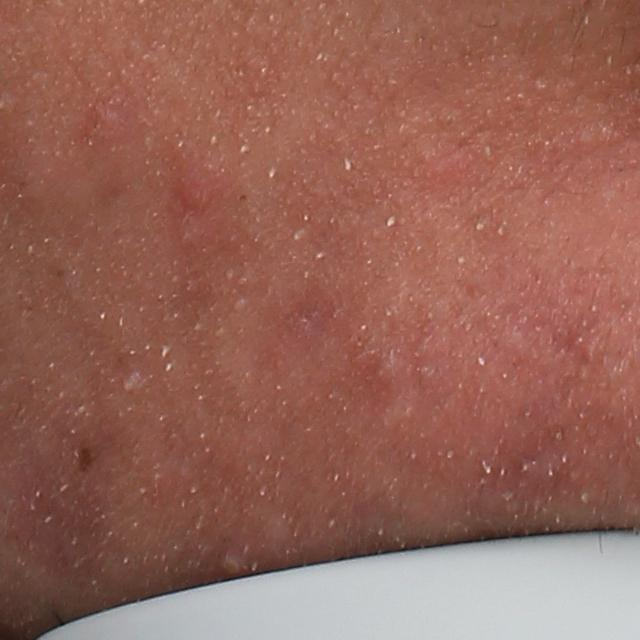papule: (77, 92, 137, 137), (174, 175, 216, 212)
